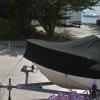Boat: (18, 26, 100, 91)
